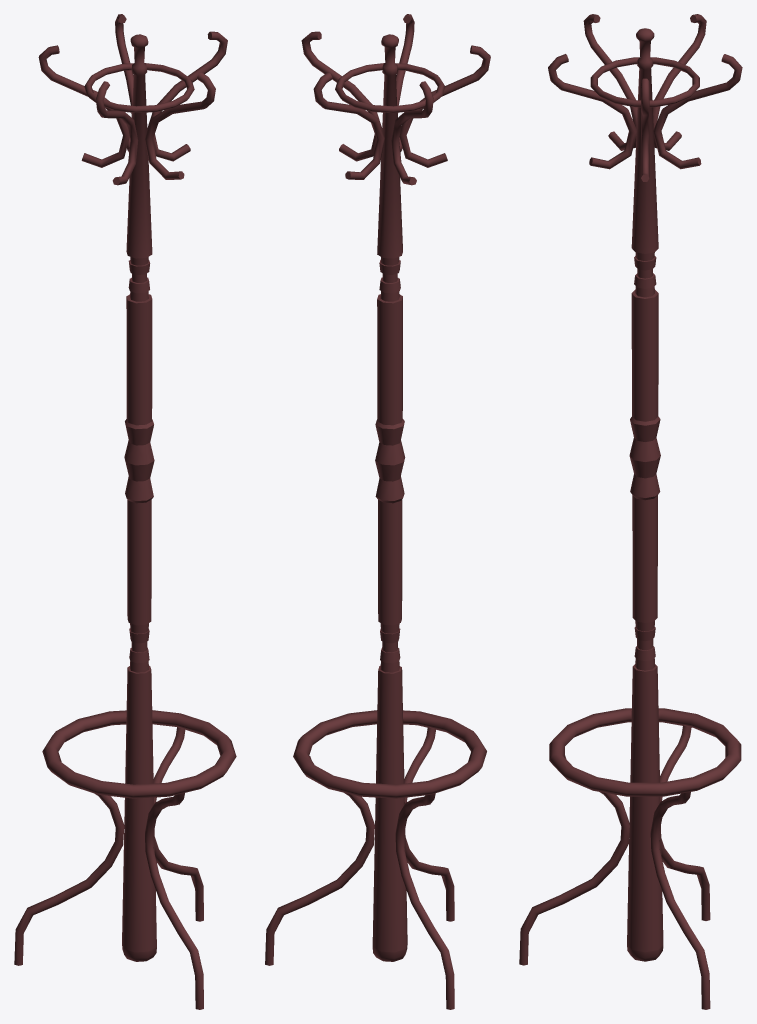
The model's file is coat_rack.fbx.
3 renders of one model, left to right at view 1: azimuth 30°, elevation 25°; view 2: azimuth 150°, elevation 25°; view 3: azimuth 270°, elevation 25°, orthographic.
Parts seen in each view (by area): view 1: Coat Rack; view 2: Coat Rack; view 3: Coat Rack.
Boxes of the visible parts, left/top/right/bottom form: Coat Rack: left=14, top=14, right=236, bottom=1009; Coat Rack: left=265, top=14, right=490, bottom=1009; Coat Rack: left=519, top=14, right=742, bottom=1009.
Bounding box in the file's own units: 433 × 2026 × 439.
